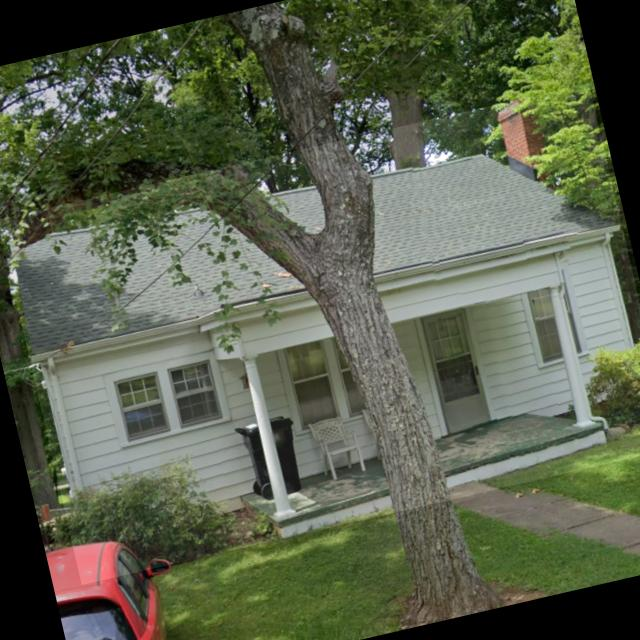House: (0, 82, 640, 584)
